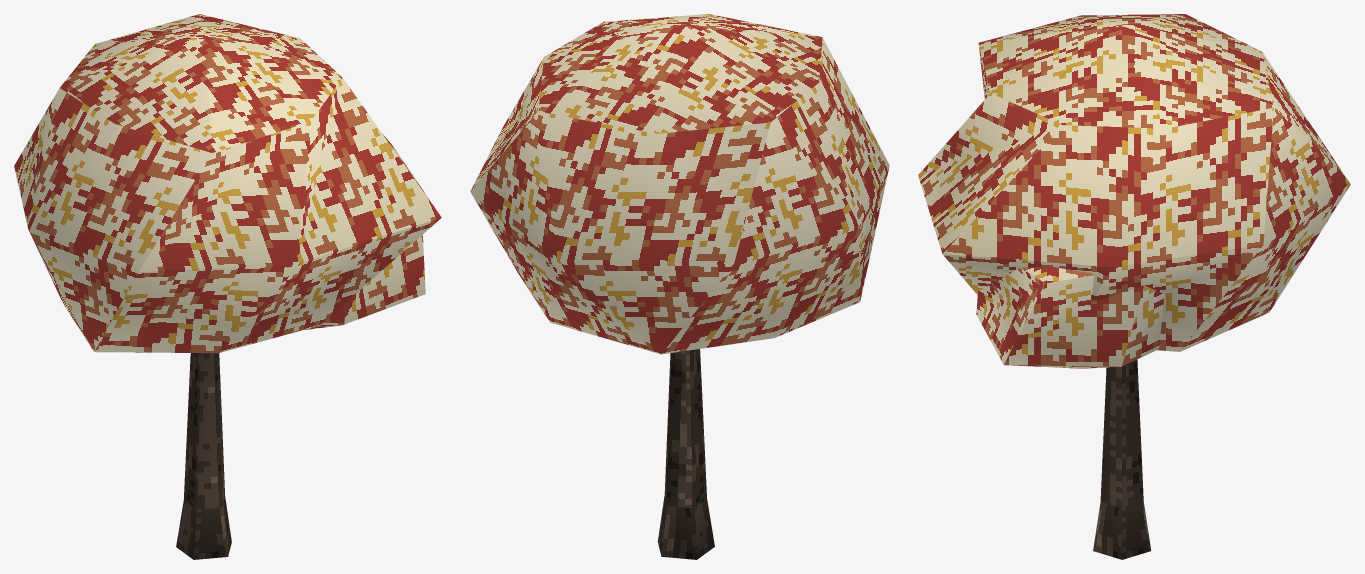
File: mnat.orchard__blossom.glb
3 views of the same model, side by side, from view 1: azimuth 30°, elevation 25°; view 2: azimuth 150°, elevation 25°; view 3: azimuth 270°, elevation 25° (orthographic). The views are drawn at different scales.
Parts seen in each view (by area): view 1: kit_crown, kit_trunk; view 2: kit_crown, kit_trunk; view 3: kit_crown, kit_trunk.
Part boxes in pixels (x1,y1,x2,y2): kit_crown: (14, 14, 441, 353); kit_trunk: (176, 353, 231, 559); kit_crown: (470, 14, 889, 354); kit_trunk: (657, 349, 714, 559); kit_crown: (918, 14, 1350, 368); kit_trunk: (1093, 359, 1151, 559).
Size of the model in its own units: 3.14 by 4.3 by 3.24.
2 materials, 2 textured.
